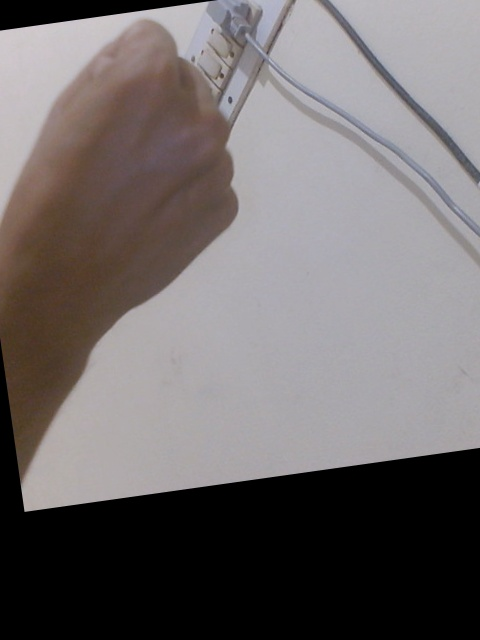hand: (4, 17, 244, 358)
